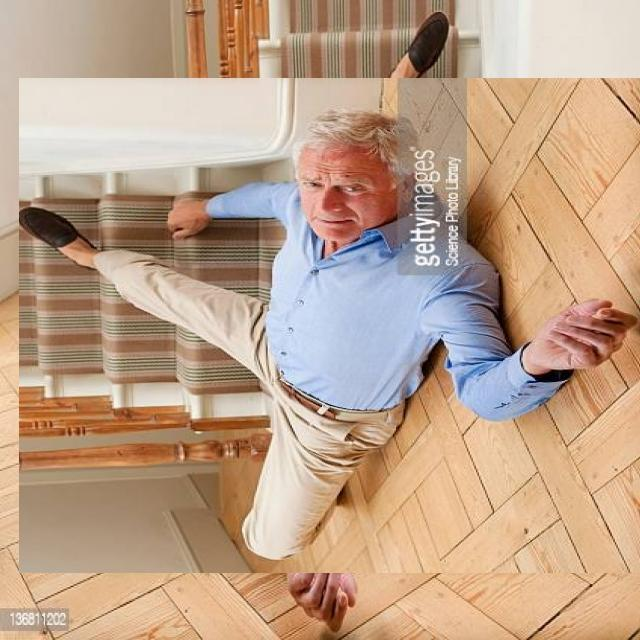Fall: (67, 97, 640, 640)
